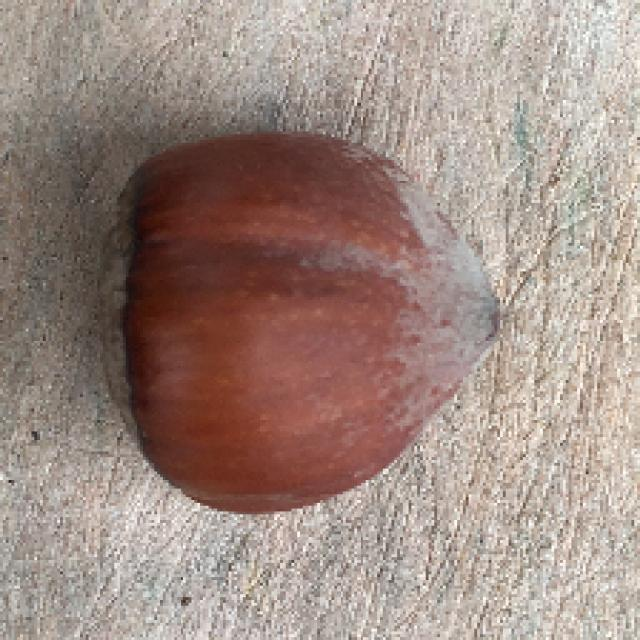QualityHazelnut: (92, 133, 500, 515)
